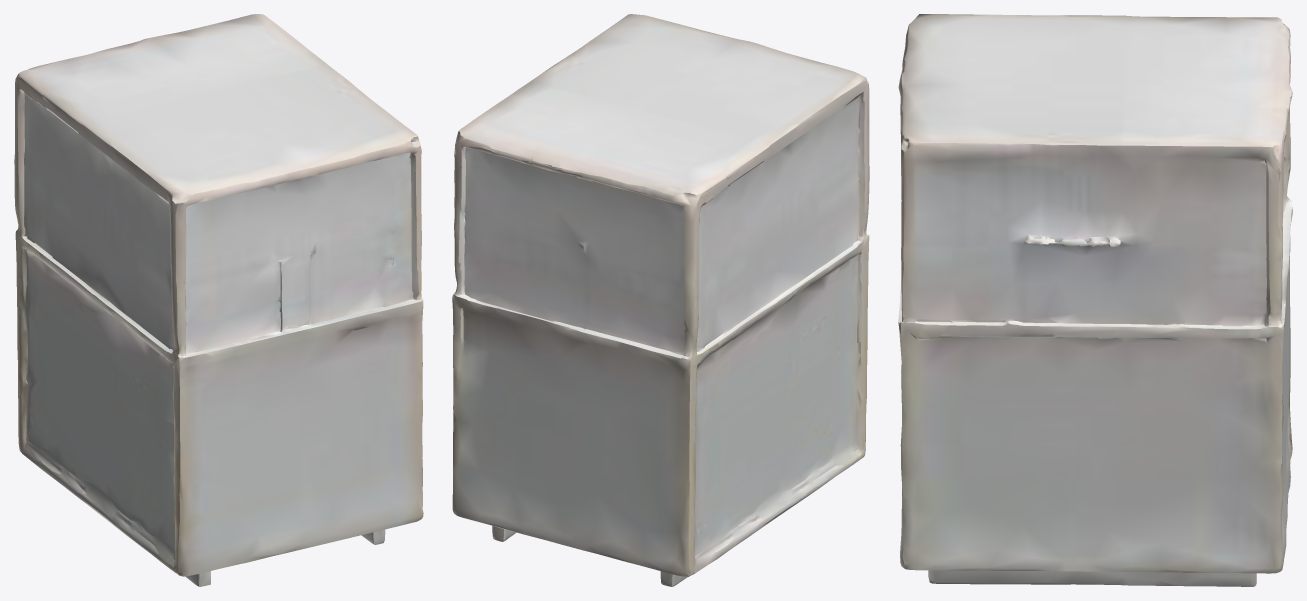
3 views of the same model, side by side, from view 1: azimuth 30°, elevation 25°; view 2: azimuth 150°, elevation 25°; view 3: azimuth 270°, elevation 25° (orthographic). The views are drawn at different scales.
Parts seen in each view (by area): view 1: world; view 2: world; view 3: world.
Part boxes in pixels (box(x1,y1,x2,y2)): world: box(14, 14, 423, 586); world: box(452, 14, 869, 586); world: box(898, 14, 1292, 586).
Bounding box in the file's own units: 0.3122 × 0.4813 × 0.3751.
Materials: 1 (1 with a texture image).
